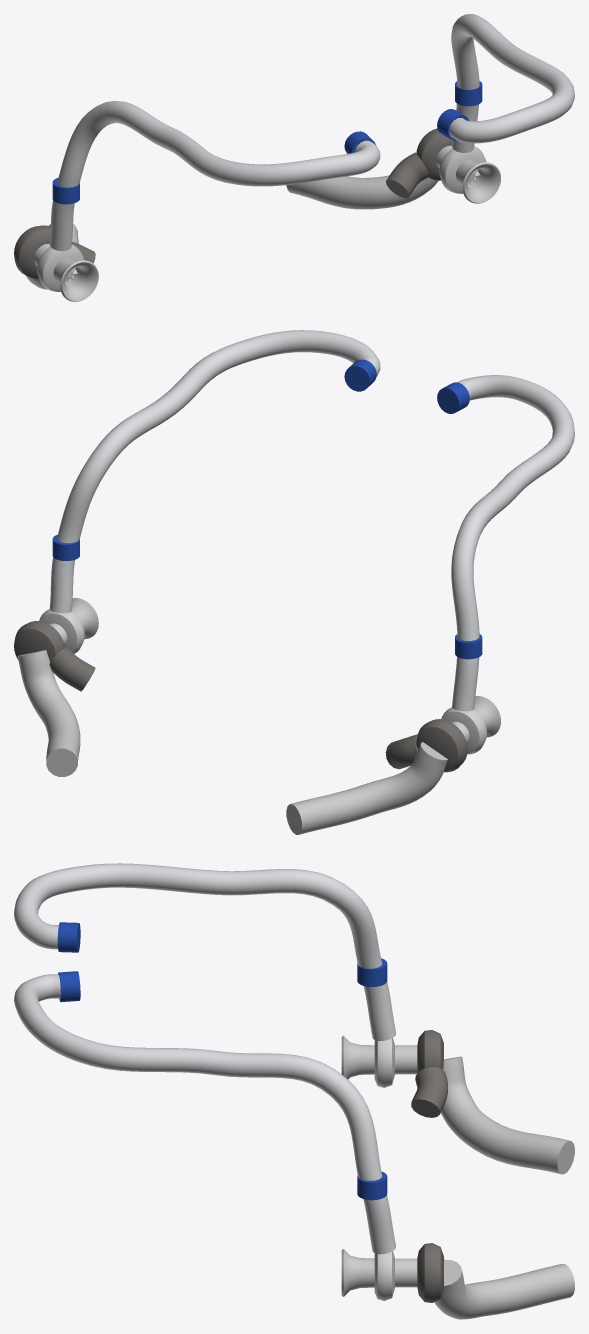
Rendered from p60b40-turbo.glb.
3 renders of one model, top to bottom at view 1: azimuth 30°, elevation 25°; view 2: azimuth 150°, elevation 25°; view 3: azimuth 270°, elevation 25°, orthographic. The views are drawn at different scales.
Visible parts, largest first — view 1: Turbo_right_charge_mesh, Turbo_left_charge_mesh, Turbo_left_steel_mesh, Turbo_left_iron_mesh, Turbo_right_steel_mesh, Turbo_right_iron_mesh, Turbo_left_cast_mesh, Turbo_right_cast_mesh, Turbo_left_coupler_mesh, Turbo_right_coupler_mesh; view 2: Turbo_left_charge_mesh, Turbo_right_charge_mesh, Turbo_right_steel_mesh, Turbo_left_steel_mesh, Turbo_left_iron_mesh, Turbo_right_iron_mesh, Turbo_right_coupler_mesh, Turbo_left_coupler_mesh, Turbo_right_cast_mesh, Turbo_left_cast_mesh; view 3: Turbo_left_charge_mesh, Turbo_right_charge_mesh, Turbo_right_steel_mesh, Turbo_left_steel_mesh, Turbo_right_iron_mesh, Turbo_right_cast_mesh, Turbo_left_cast_mesh, Turbo_left_iron_mesh, Turbo_right_coupler_mesh, Turbo_left_coupler_mesh.
Part boxes in pixels (box(x1,y1,x2,y2)): Turbo_right_charge_mesh: box(49, 101, 380, 251); Turbo_left_charge_mesh: box(449, 14, 574, 152); Turbo_left_steel_mesh: box(286, 160, 500, 209); Turbo_left_iron_mesh: box(386, 128, 452, 198); Turbo_right_steel_mesh: box(26, 224, 98, 301); Turbo_right_iron_mesh: box(14, 225, 95, 278); Turbo_left_cast_mesh: box(436, 145, 486, 193); Turbo_right_cast_mesh: box(34, 244, 83, 291); Turbo_left_coupler_mesh: box(437, 81, 482, 140); Turbo_right_coupler_mesh: box(52, 131, 375, 204); Turbo_left_charge_mesh: box(49, 330, 380, 613); Turbo_right_charge_mesh: box(451, 375, 574, 711); Turbo_right_steel_mesh: box(286, 696, 500, 834); Turbo_left_steel_mesh: box(17, 597, 98, 776); Turbo_left_iron_mesh: box(14, 621, 95, 691); Turbo_right_iron_mesh: box(385, 719, 467, 772); Turbo_right_coupler_mesh: box(437, 382, 482, 659); Turbo_left_coupler_mesh: box(52, 359, 376, 560); Turbo_right_cast_mesh: box(441, 707, 486, 754); Turbo_left_cast_mesh: box(39, 609, 84, 653); Turbo_left_charge_mesh: box(14, 974, 395, 1254); Turbo_right_charge_mesh: box(14, 863, 395, 1040); Turbo_right_steel_mesh: box(341, 1036, 574, 1174); Turbo_left_steel_mesh: box(341, 1249, 574, 1319); Turbo_right_iron_mesh: box(411, 1030, 447, 1117); Turbo_right_cast_mesh: box(374, 1038, 417, 1087); Turbo_left_cast_mesh: box(374, 1251, 417, 1300); Turbo_left_iron_mesh: box(417, 1243, 444, 1302); Turbo_right_coupler_mesh: box(57, 922, 387, 986); Turbo_left_coupler_mesh: box(58, 971, 387, 1200).
Size of the model in its own units: 1.16 by 0.6631 by 1.16.
